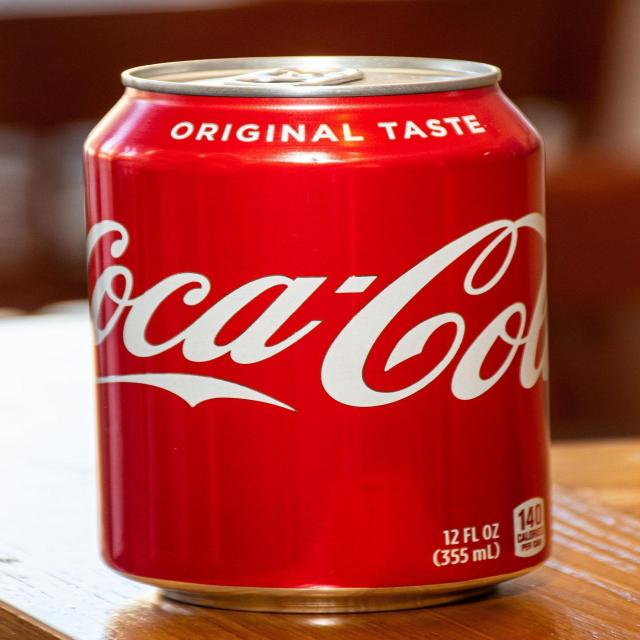tin can: (80, 49, 546, 614)
